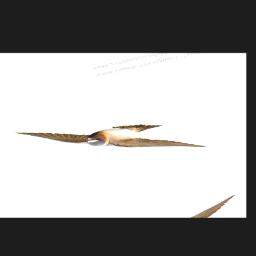Swallow: (14, 96, 210, 185)
